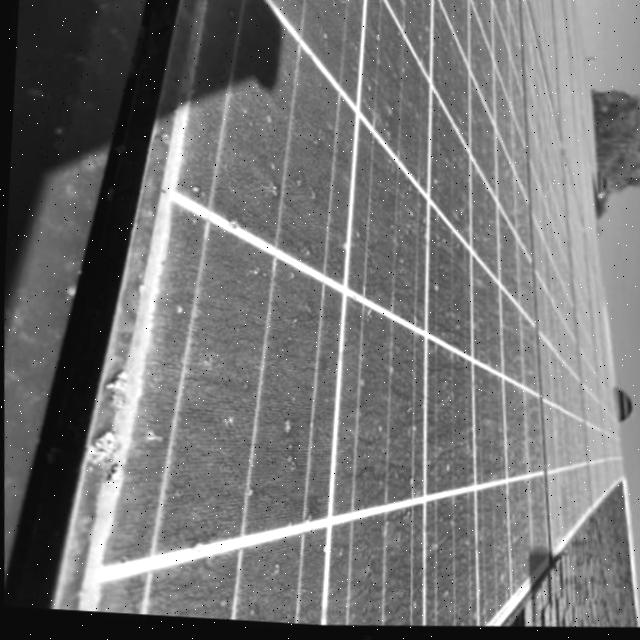Anomaly Solar Panel: (73, 0, 623, 629)
Surface Contaminant: (87, 0, 618, 629)
